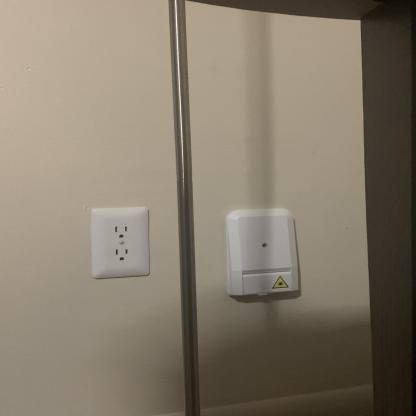OUTLET: (91, 206, 150, 276)
